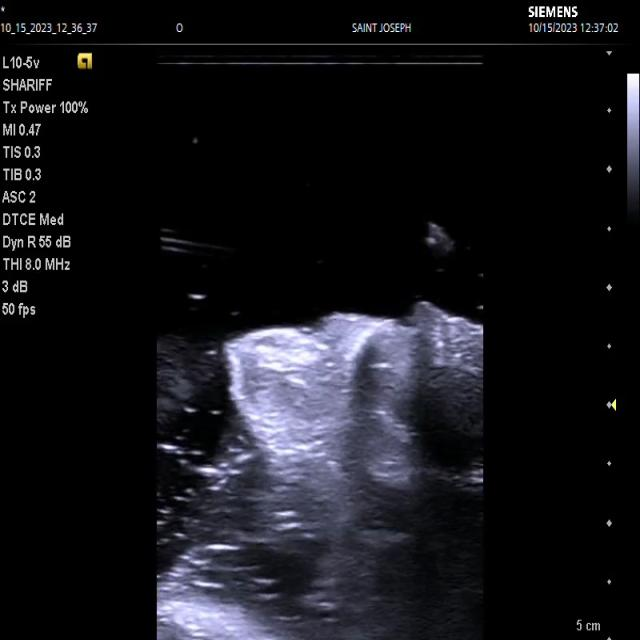tissue: (223, 297, 485, 538)
